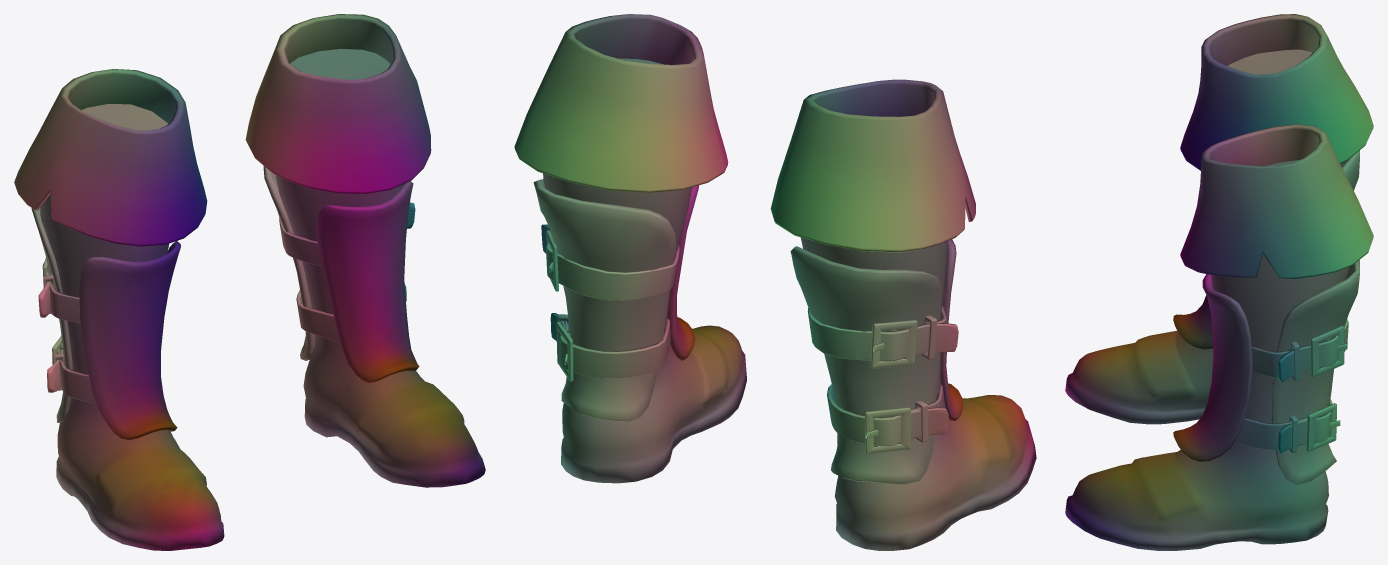
Rendered from SM_HM_Medium_Pirate_Boots.fbx.
3 renders of one model, left to right at view 1: azimuth 30°, elevation 25°; view 2: azimuth 150°, elevation 25°; view 3: azimuth 270°, elevation 25°, orthographic. The views are drawn at different scales.
Visible parts, largest first — view 1: SM_HM_Medium_Pirate_Boots; view 2: SM_HM_Medium_Pirate_Boots; view 3: SM_HM_Medium_Pirate_Boots.
Boxes of the visible parts, x1=… form: SM_HM_Medium_Pirate_Boots: x1=14, y1=14, x2=485, y2=550; SM_HM_Medium_Pirate_Boots: x1=514, y1=14, x2=1036, y2=550; SM_HM_Medium_Pirate_Boots: x1=1065, y1=14, x2=1373, y2=550.
Size of the model in its own units: 56.62 by 54.18 by 40.03.
